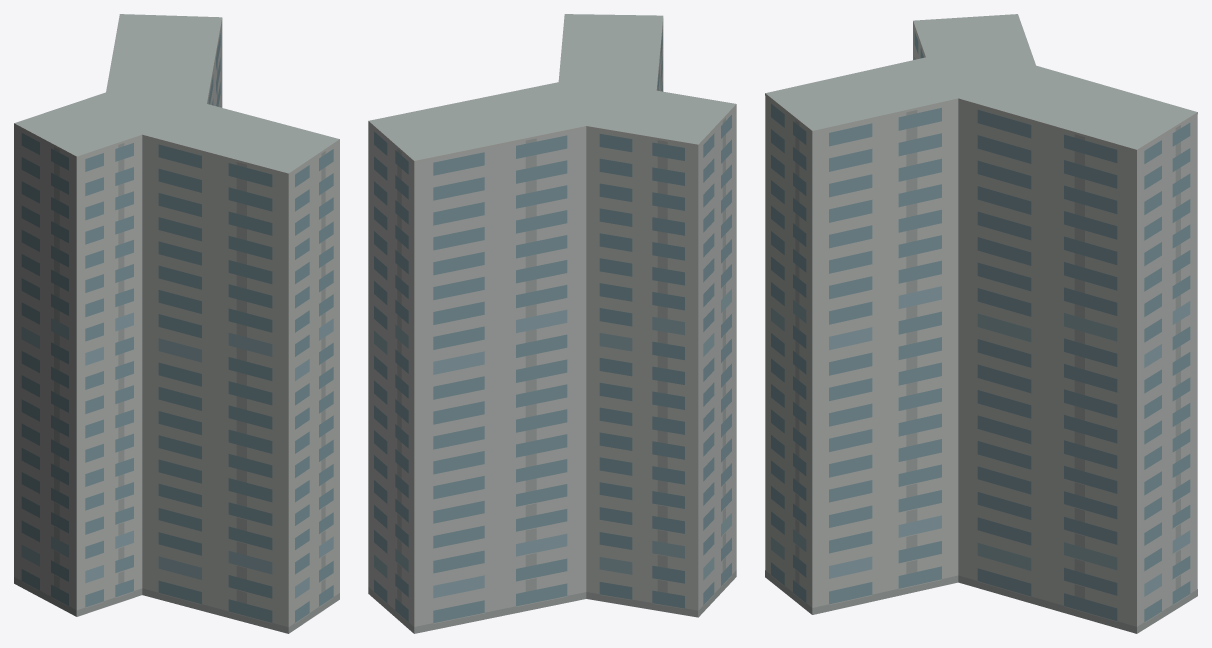
File: residential-10255fc7-5e20-48cc-b1ad-93fecce0b067.glb
3 views of the same model, side by side, from view 1: azimuth 30°, elevation 25°; view 2: azimuth 150°, elevation 25°; view 3: azimuth 270°, elevation 25° (orthographic). The views are drawn at different scales.
Parts seen in each view (by area): view 1: residential-10255fc7-5e20-48cc-b1ad-93fecce0b067.tmp; view 2: residential-10255fc7-5e20-48cc-b1ad-93fecce0b067.tmp; view 3: residential-10255fc7-5e20-48cc-b1ad-93fecce0b067.tmp.
Part boxes in pixels (x1,y1,x2,y2): residential-10255fc7-5e20-48cc-b1ad-93fecce0b067.tmp: (14, 14, 339, 633); residential-10255fc7-5e20-48cc-b1ad-93fecce0b067.tmp: (368, 14, 736, 633); residential-10255fc7-5e20-48cc-b1ad-93fecce0b067.tmp: (765, 14, 1197, 633).
Size of the model in its own units: 30.7 by 51 by 41.31.
